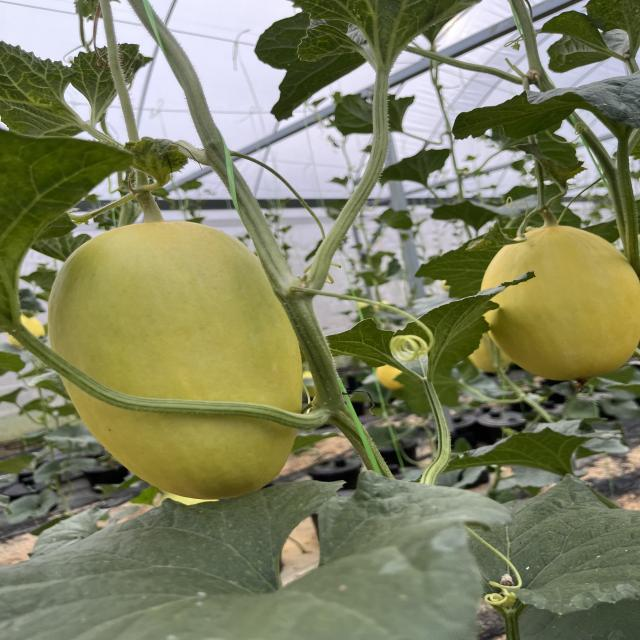CMV: (2, 20, 148, 134), (287, 0, 486, 68)
SLCV: (114, 136, 198, 185)
downy mildew: (17, 467, 432, 640), (439, 473, 640, 615)
healthy: (455, 76, 640, 144), (536, 0, 640, 75)
